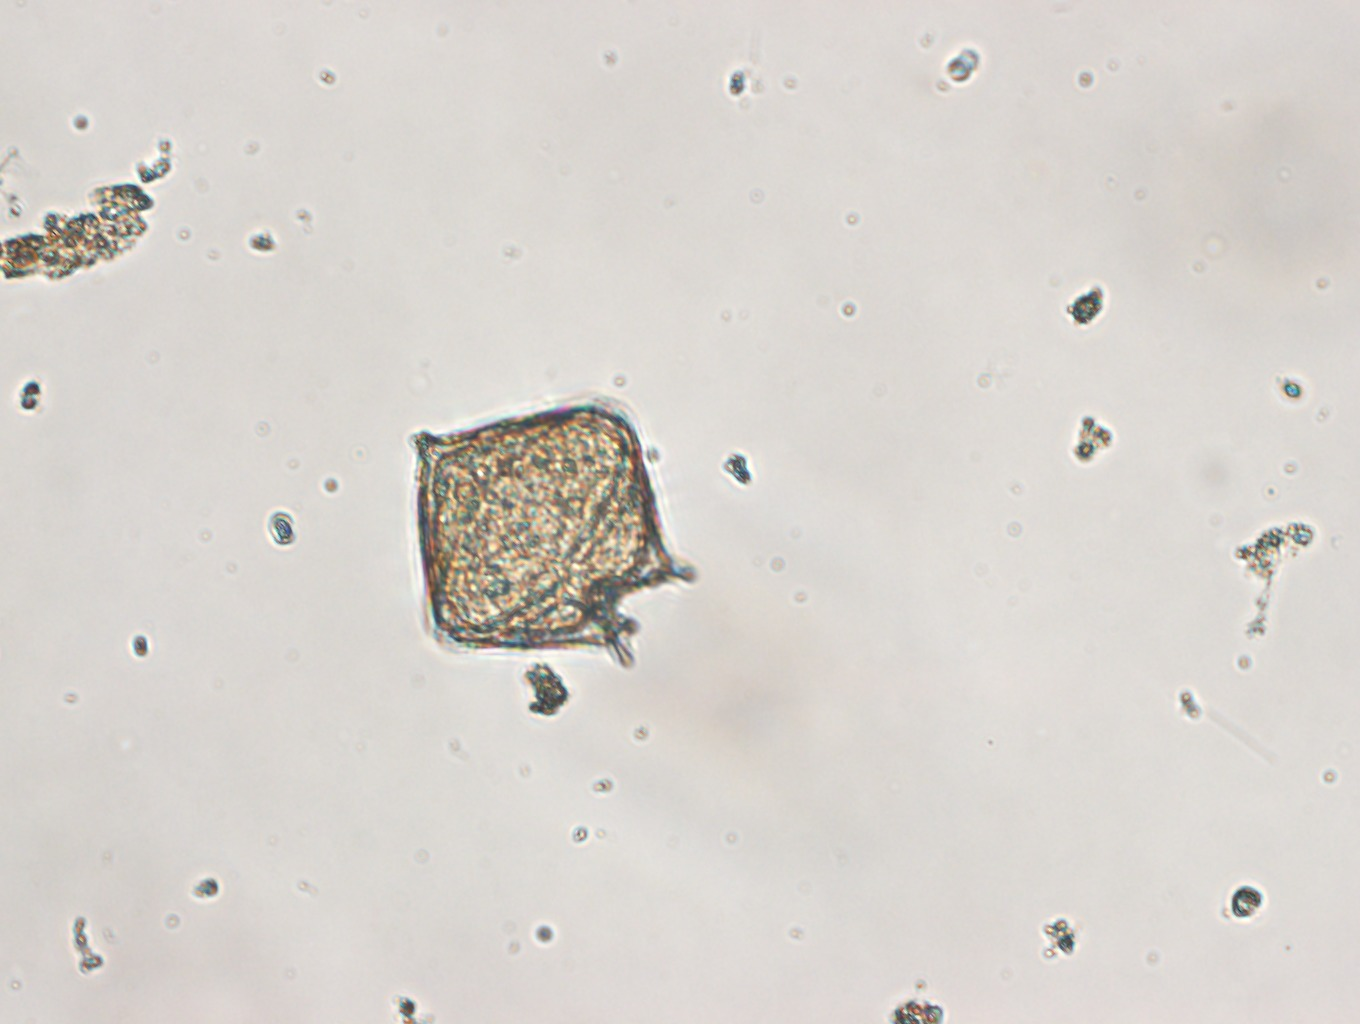protoperidinium: (409, 396, 700, 668)
